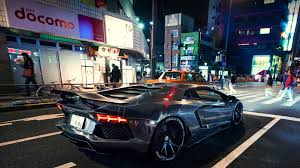Lamborghini: (69, 79, 242, 163)
